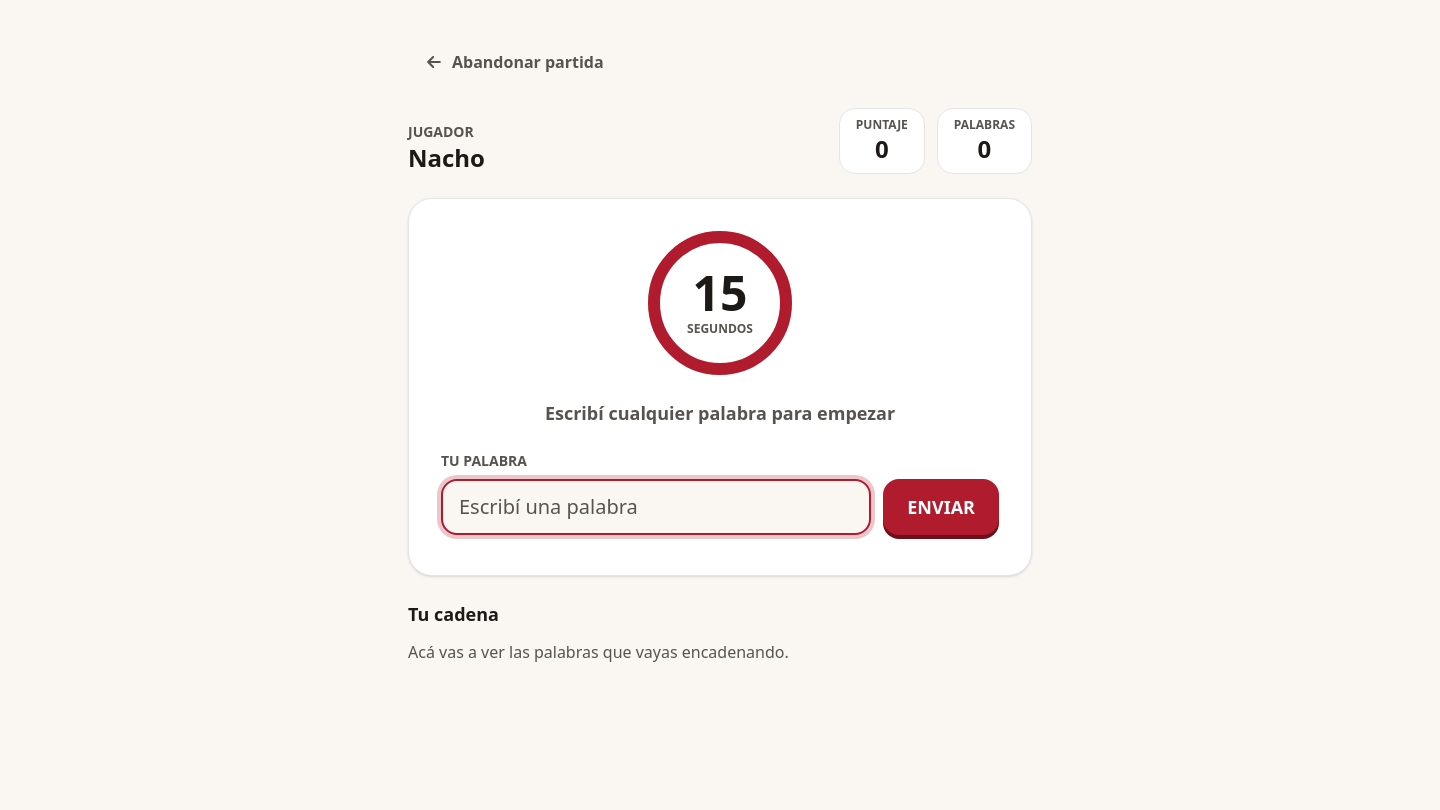
GameScreen abandon button › asks for confirmation once the game has started
Type "casa" into the field labelled "Tu palabra" at (656, 507), box [441,479,871,535]
Then press Enter
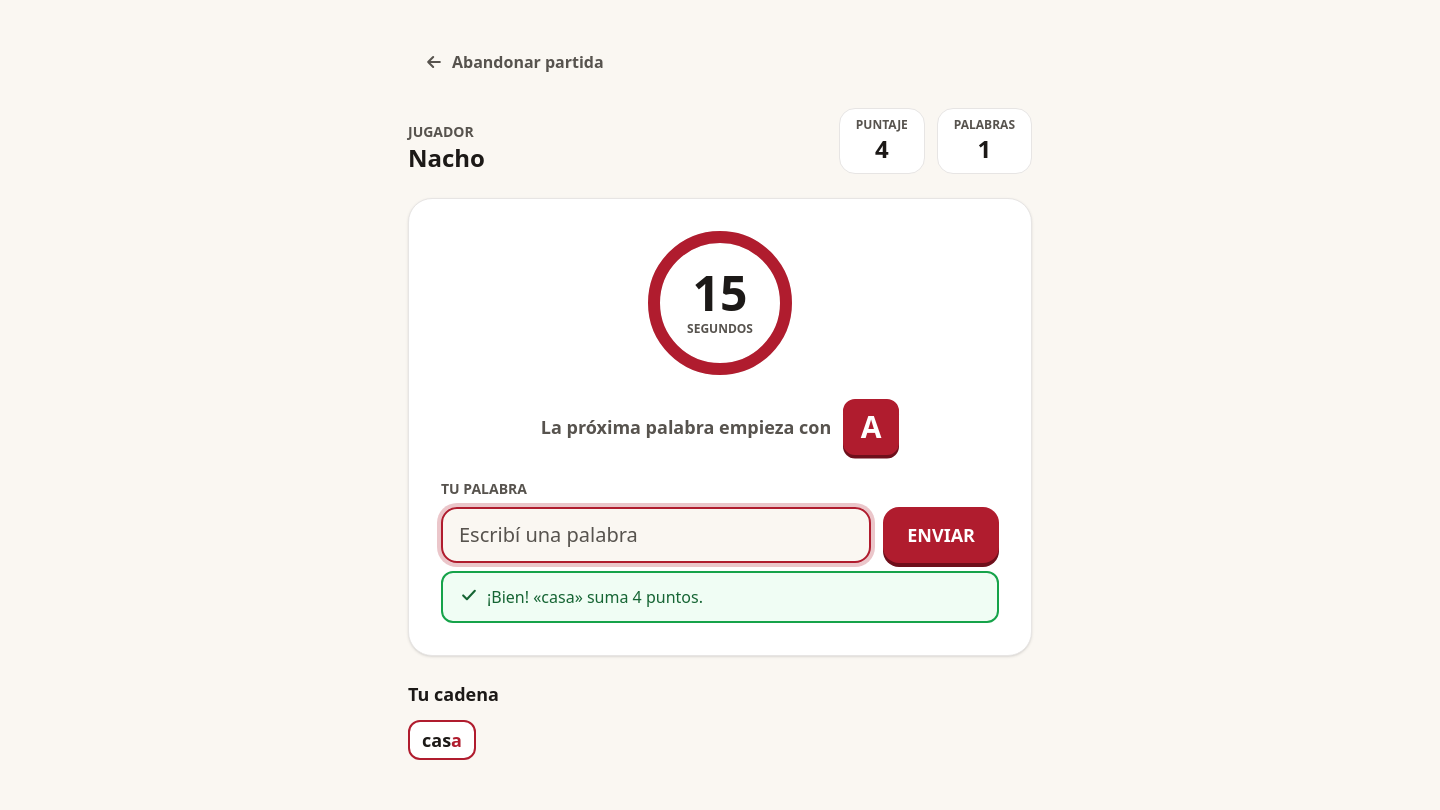
Check: the text "¡Bien! «casa»" is shown, box [487,585,703,609]
Click the button "Abandonar partida" at (514, 62), box [408,40,620,84]
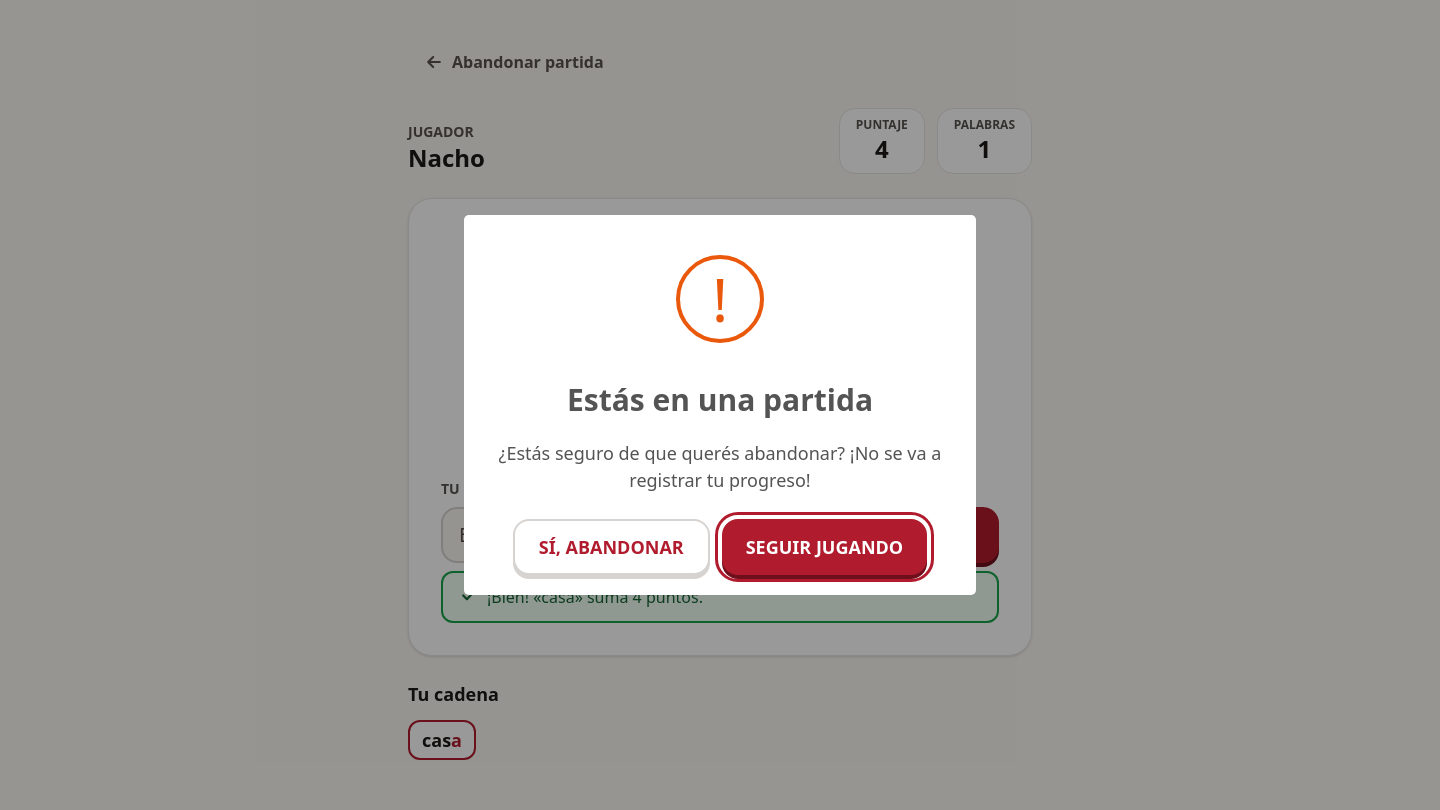
Check: the dialog "Estás en una partida" shows "¿Estás seguro de que querés abandonar? ¡No se va a registrar tu progreso!", box [499,441,941,492]
